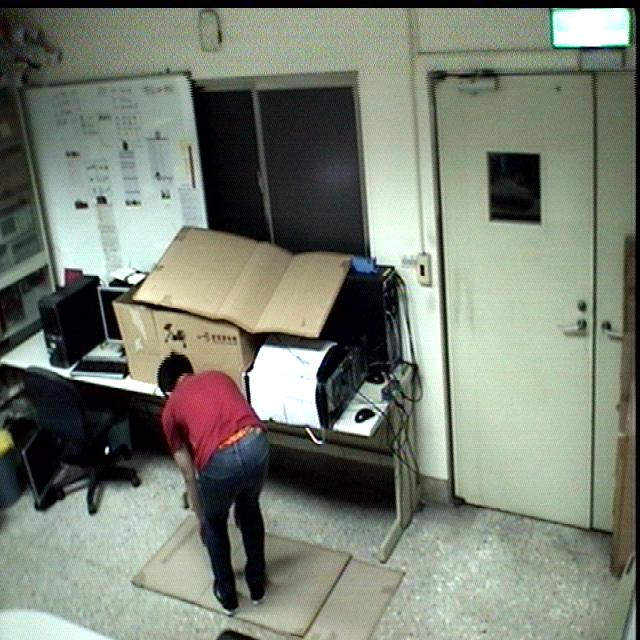bend: (154, 346, 280, 620)
